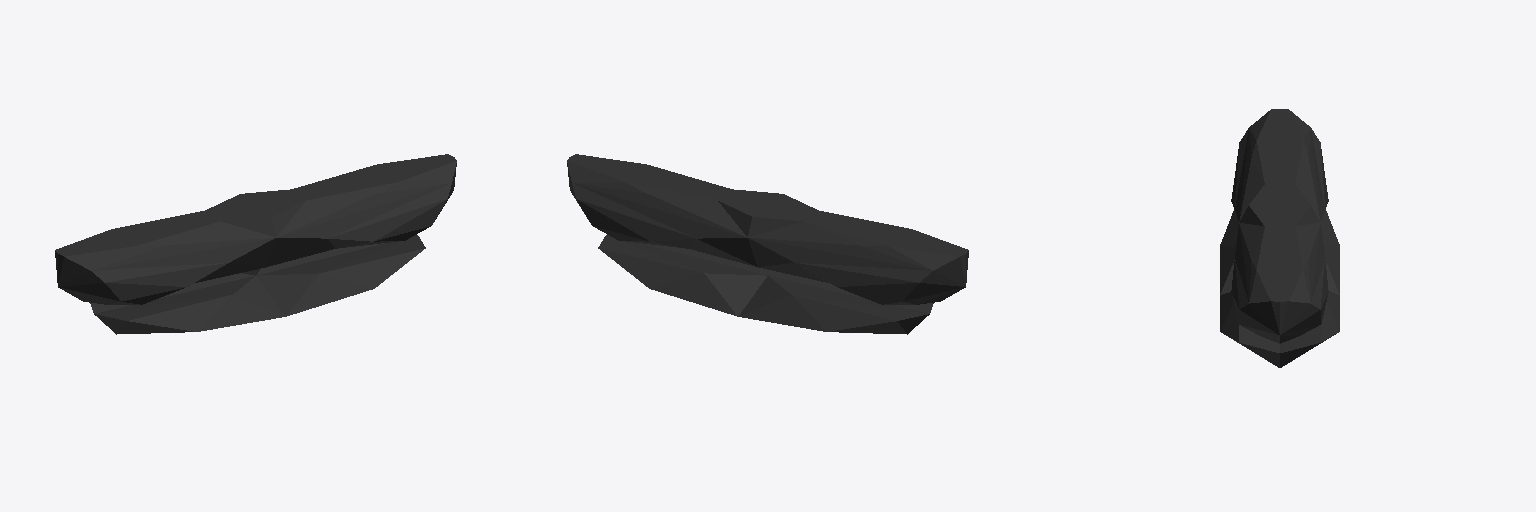
The model's file is nacloud.obj.
3 views of the same model, side by side, from view 1: azimuth 30°, elevation 25°; view 2: azimuth 150°, elevation 25°; view 3: azimuth 270°, elevation 25° (orthographic).
Parts seen in each view (by area): view 1: NACloud, NABottom; view 2: NACloud, NABottom; view 3: NACloud, NABottom.
Part boxes in pixels (x1,y1,x2,y2): NACloud: (55,154,456,304); NABottom: (90,235,425,334); NACloud: (567,154,968,304); NABottom: (598,235,933,334); NACloud: (1231,109,1328,343); NABottom: (1220,209,1339,367).
Bounding box in the file's own units: 2 × 0.4885 × 0.5229.